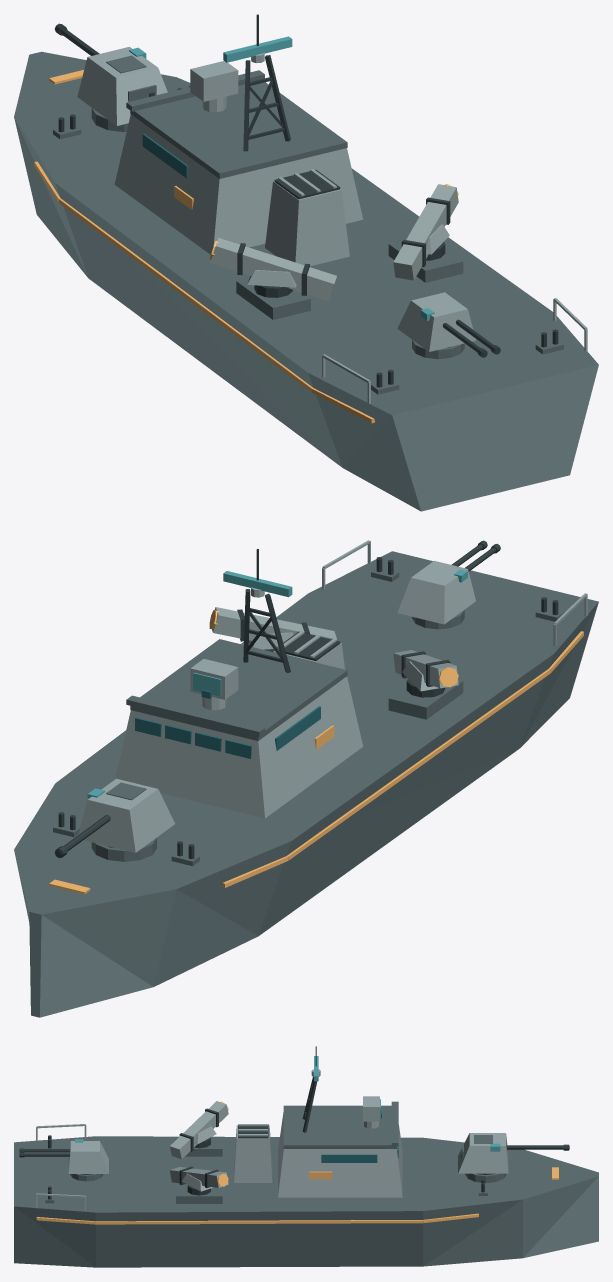
Rendered from ESC_STK_T1.fbx.
The picture shows the model from 3 angles, top to bottom: view 1: azimuth 30°, elevation 25°; view 2: azimuth 150°, elevation 25°; view 3: azimuth 270°, elevation 25°; orthographic projection. The views are drawn at different scales.
Parts seen in each view (by area): view 1: TMP_100494, TMP_100501, TMP_100185, TMP_100608, TMP_100056, TMP_100251, MissileBankPortTube1, MissileBankStarboardTube1, RoleHullStripe-1_1, FireControlHousing, MissileBankPortFoundation, MissileBankStarboardFoundation (+5 smaller); view 2: TMP_100494, TMP_100501, TMP_100185, TMP_100056, TMP_100251, RoleHullStripe-1_1, MissileBankStarboardTube1, BridgeBrow, MissileBankPortFoundation, FireControlHousing, MissileBankPortTube1, ExhaustGrille (+3 smaller); view 3: TMP_100494, TMP_100501, TMP_100185, TMP_100608, TMP_100056, RoleHullStripe1_1, TMP_100251, MissileBankPortTube1, MissileBankStarboardFoundation, MissileBankStarboardTube1, BridgeSideGlass1, MissileBankPortFoundation (+3 smaller).
Boxes of the visible parts, box(x1,y1,x2,y2) form: TMP_100494: box(14, 51, 598, 511); TMP_100501: box(114, 114, 362, 254); TMP_100185: box(130, 82, 347, 178); TMP_100608: box(265, 181, 349, 266); TMP_100056: box(77, 46, 167, 125); TMP_100251: box(397, 292, 475, 351); MissileBankPortTube1: box(210, 237, 336, 300); MissileBankStarboardTube1: box(393, 184, 458, 280); RoleHullStripe-1_1: box(58, 198, 312, 392); FireControlHousing: box(190, 61, 238, 101); MissileBankPortFoundation: box(236, 278, 310, 319); MissileBankStarboardFoundation: box(388, 239, 463, 282); TMP_100494: box(14, 551, 598, 1017); TMP_100501: box(115, 676, 362, 818); TMP_100185: box(130, 639, 347, 740); TMP_100056: box(78, 778, 175, 852); TMP_100251: box(397, 560, 475, 624); RoleHullStripe-1_1: box(286, 669, 550, 860); MissileBankStarboardTube1: box(212, 607, 336, 640); BridgeBrow: box(126, 695, 264, 736); MissileBankPortFoundation: box(388, 679, 463, 719); FireControlHousing: box(190, 659, 238, 699); MissileBankPortTube1: box(393, 650, 458, 688); ExhaustGrille: box(274, 631, 340, 660); TMP_100494: box(14, 1136, 598, 1267); TMP_100501: box(278, 1112, 402, 1197); TMP_100185: box(283, 1105, 396, 1148); TMP_100608: box(234, 1125, 272, 1182); TMP_100056: box(458, 1133, 508, 1173); RoleHullStripe1_1: box(96, 1220, 423, 1224); TMP_100251: box(68, 1141, 108, 1173); MissileBankPortTube1: box(169, 1101, 228, 1159); MissileBankStarboardFoundation: box(176, 1184, 222, 1203); MissileBankStarboardTube1: box(169, 1167, 228, 1187); BridgeSideGlass1: box(321, 1154, 377, 1162); MissileBankPortFoundation: box(176, 1137, 222, 1156).
Bounding box in the file's own units: 281 × 329 × 900.
